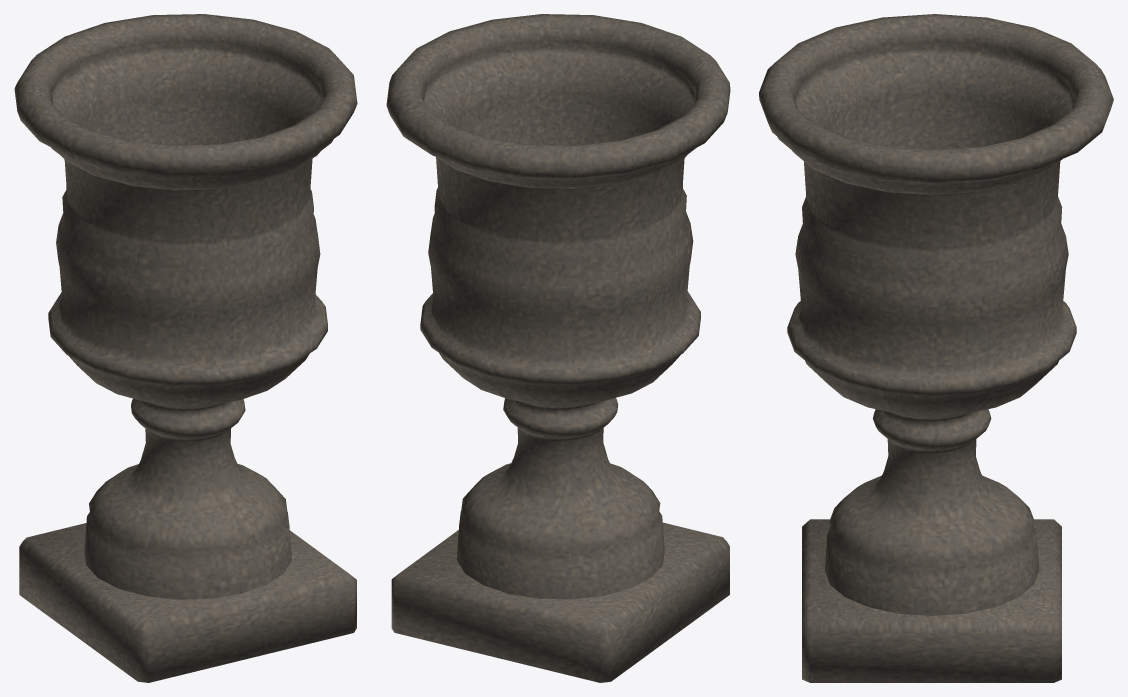
File: flower-pot-ea1e03.glb
3 views of the same model, side by side, from view 1: azimuth 30°, elevation 25°; view 2: azimuth 150°, elevation 25°; view 3: azimuth 270°, elevation 25° (orthographic). The views are drawn at different scales.
Visible parts, largest first — view 1: PropMesh; view 2: PropMesh; view 3: PropMesh.
Part boxes in pixels (x1,y1,x2,y2): PropMesh: [14, 14, 357, 682]; PropMesh: [386, 14, 730, 682]; PropMesh: [759, 14, 1113, 682].
Size of the model in its own units: 0.4134 by 0.7 by 0.4137.
Materials: 2 (2 with a texture image).
